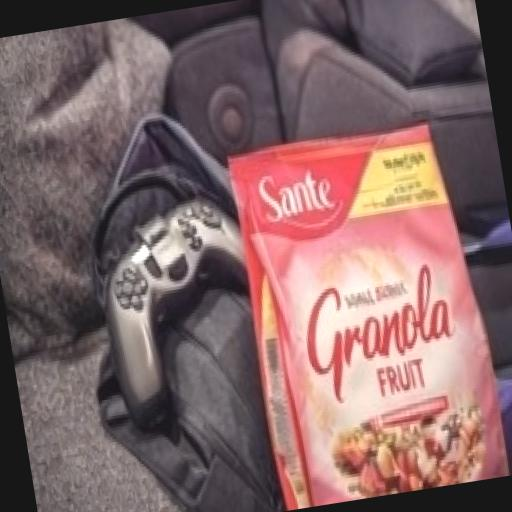granola: (171, 91, 512, 512)
